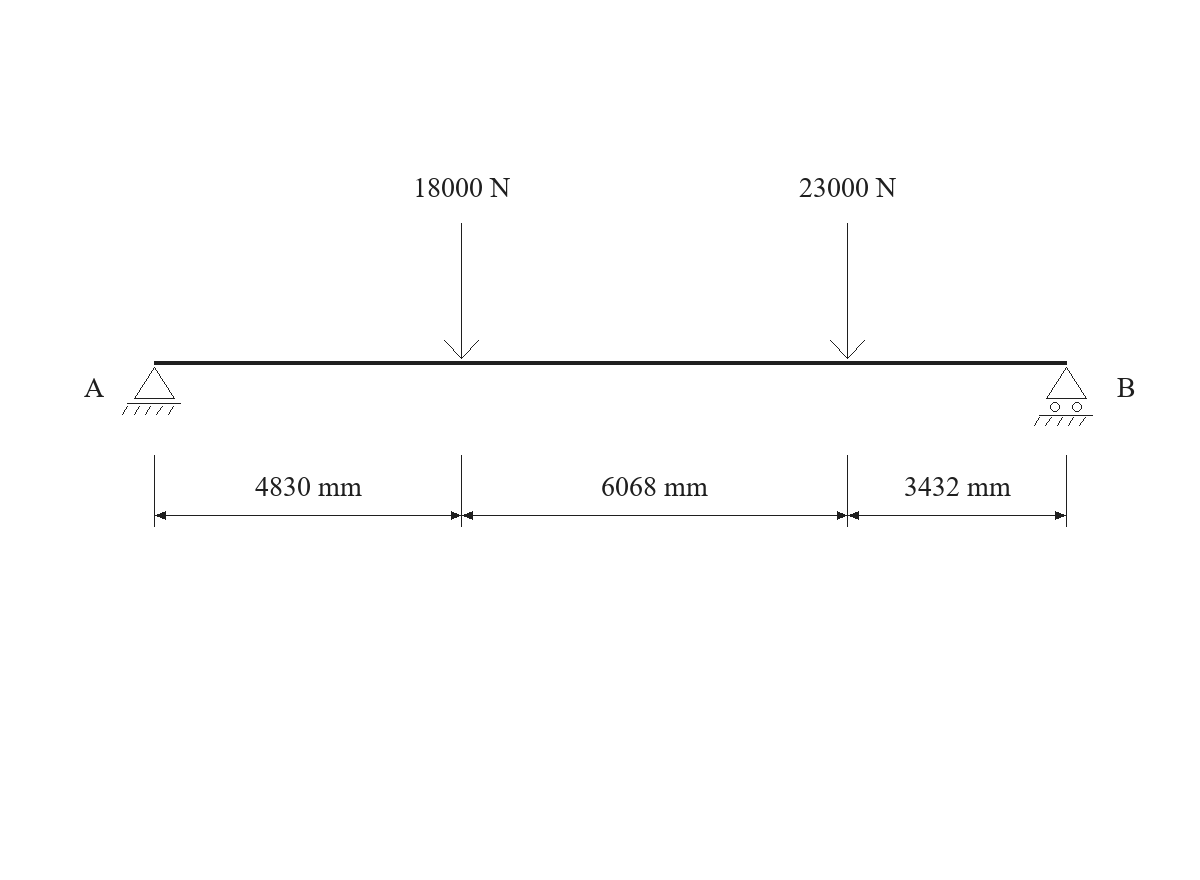pin_support: (122, 367, 181, 415)
point_load: (444, 223, 479, 359), (830, 223, 865, 359)
roller_support: (1034, 367, 1093, 426)
